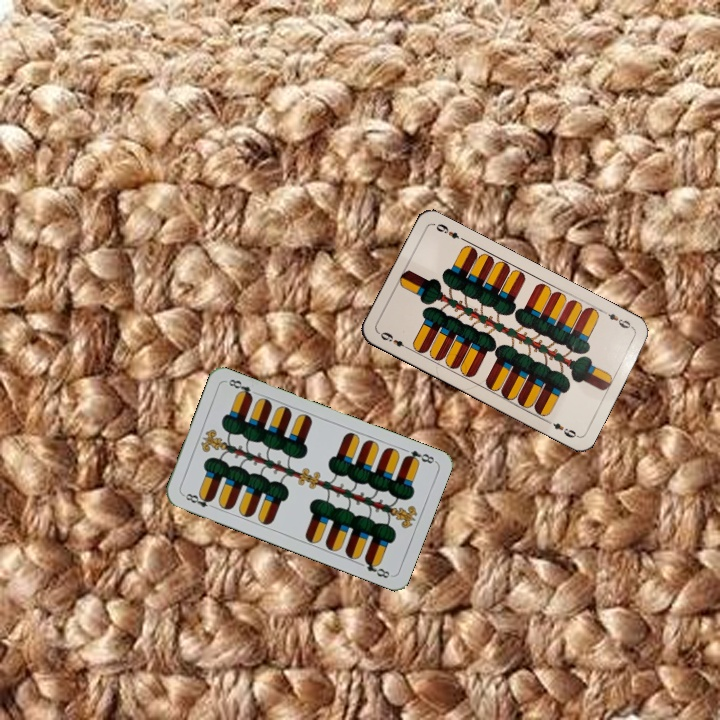E8: (179, 489, 218, 511), (400, 446, 438, 467)
E9: (598, 306, 636, 332), (376, 328, 412, 353)
